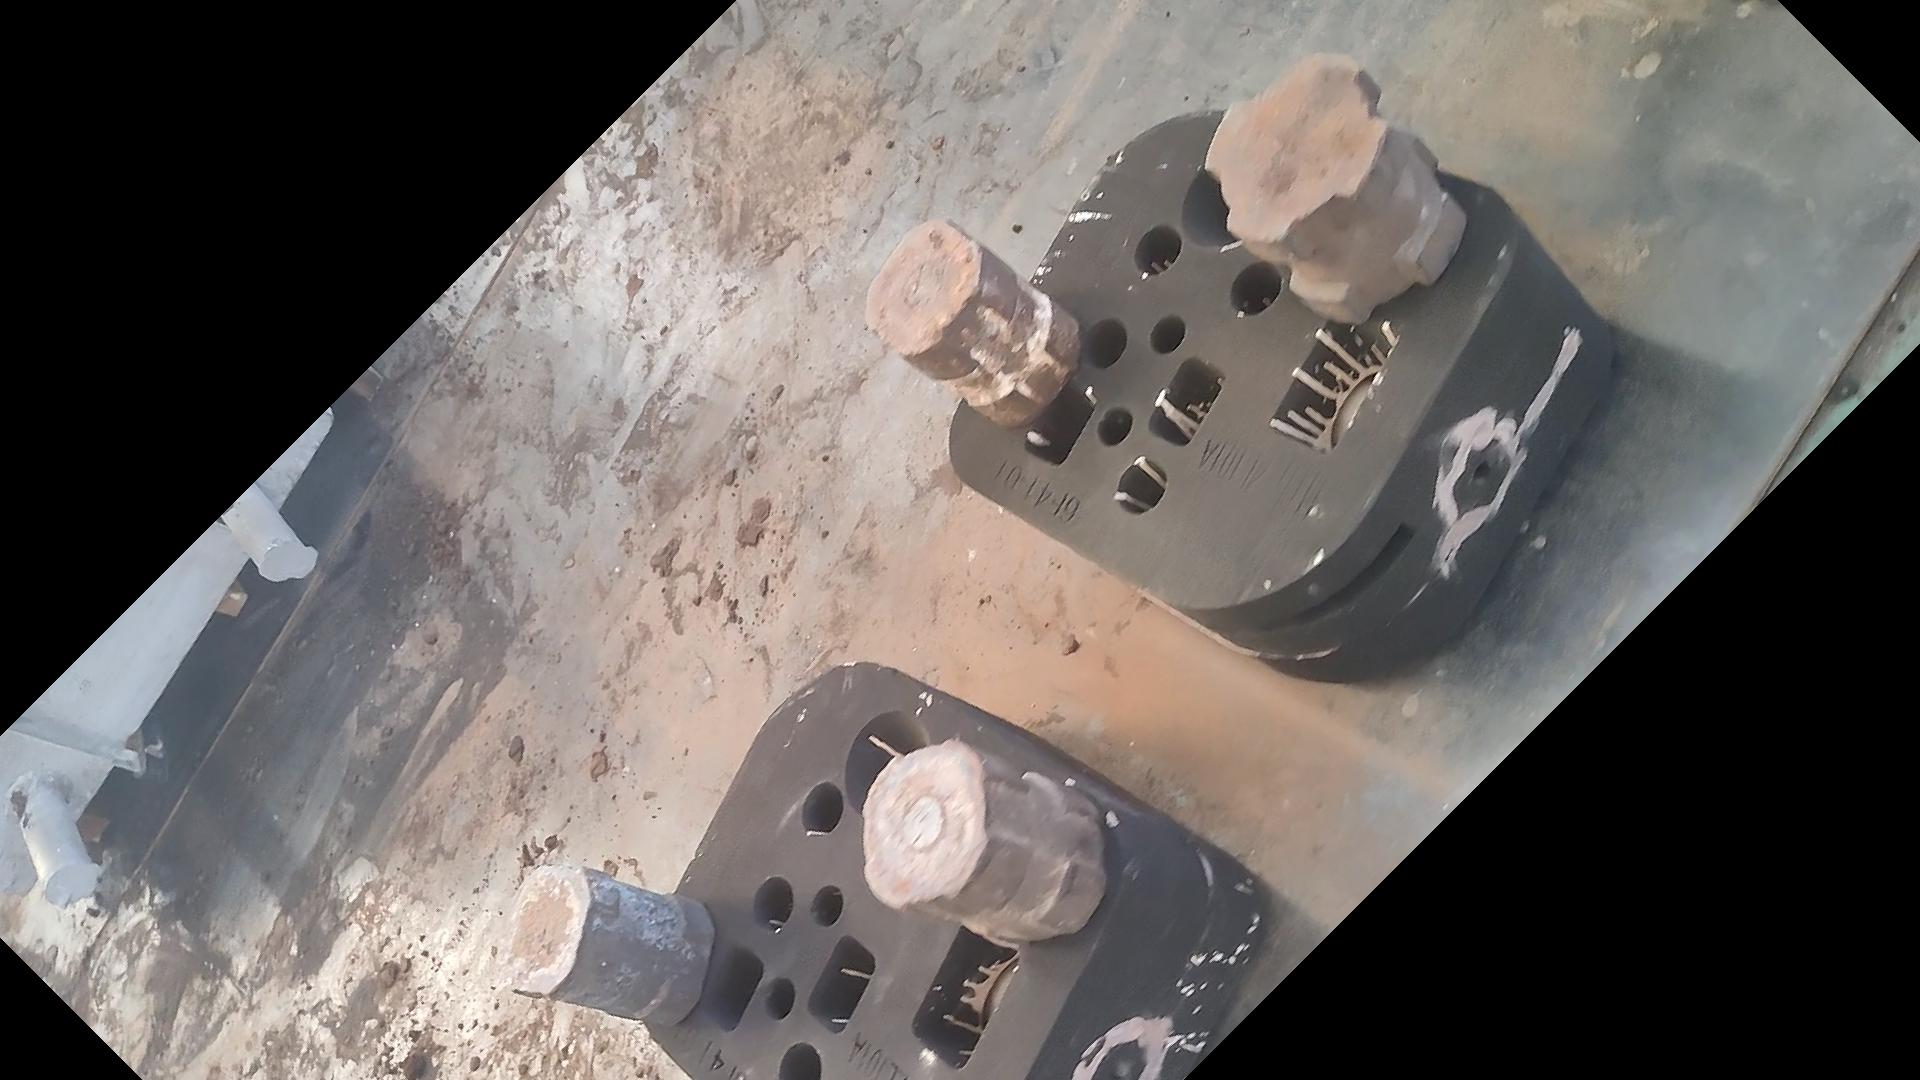pouring hole: (847, 709, 932, 823), (1182, 157, 1275, 249)
